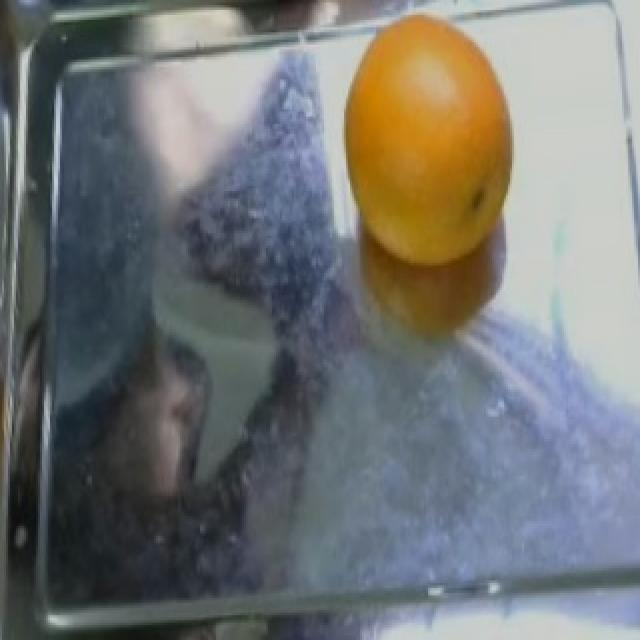Fruit: (326, 12, 526, 358)
